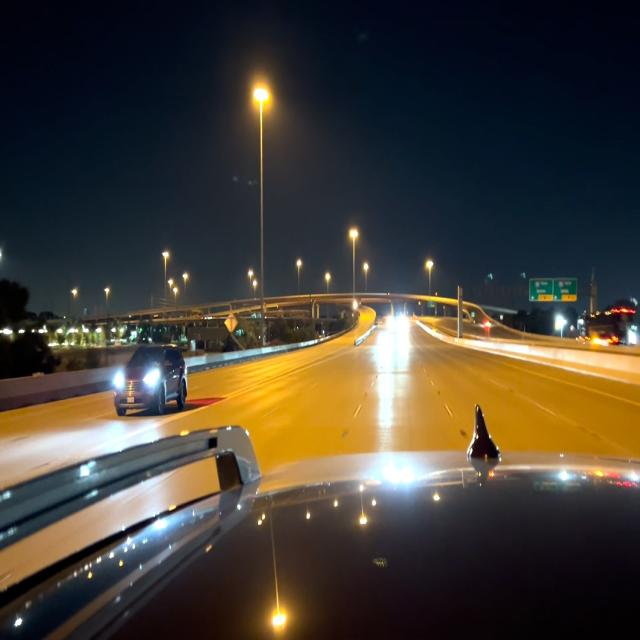back-of-sign: (224, 312, 238, 333)
